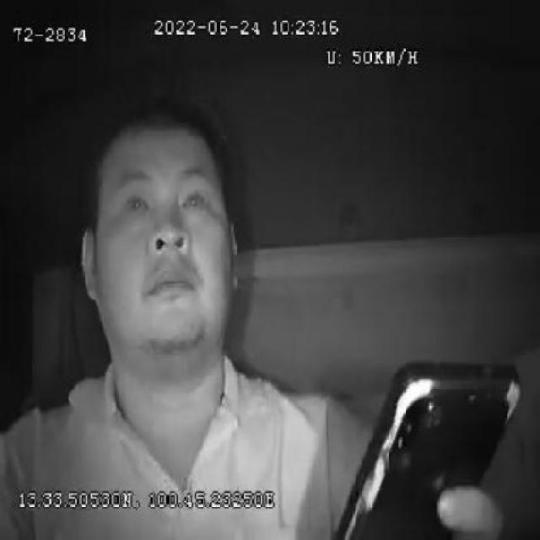phone: (337, 355, 519, 540)
